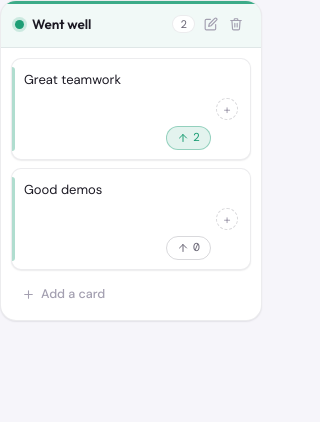
Scenario: Column › opens card input when Add a card is clicked
Click the button "Add a card" at (131, 294), box [11, 278, 251, 310]
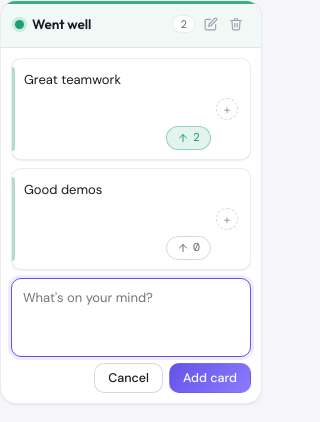
Expected: the text box with placeholder "What's on your mind?" is shown, [11, 278, 251, 357]
